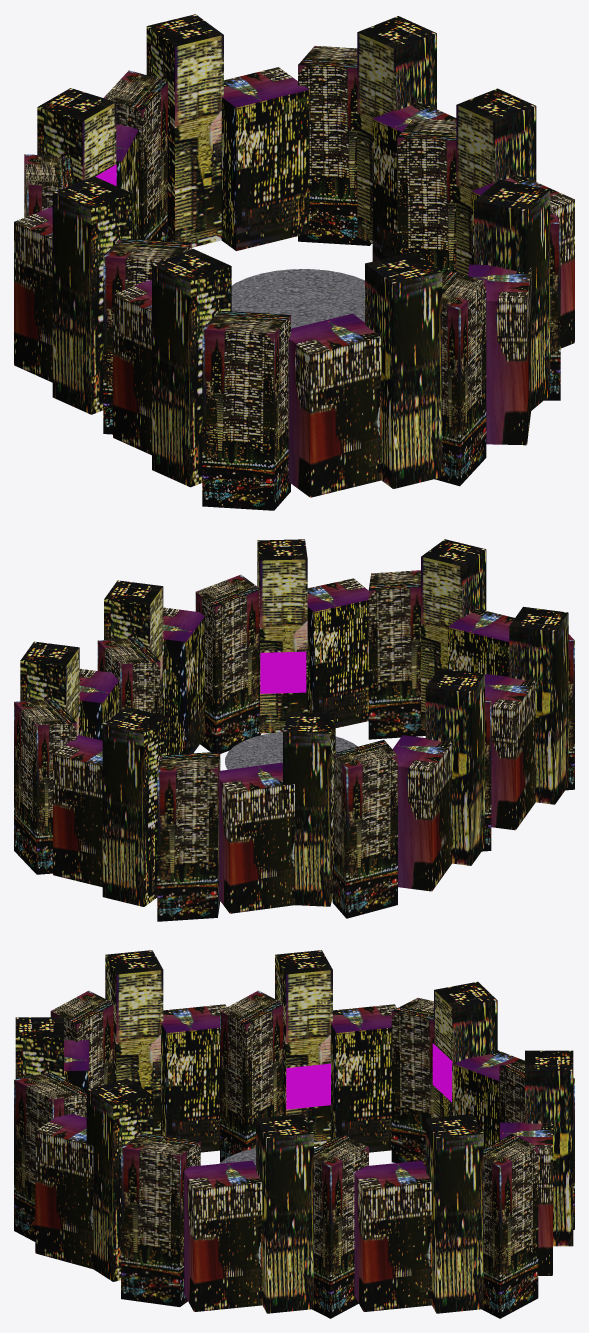
The model's file is blocktest.glb.
3 renders of one model, top to bottom at view 1: azimuth 30°, elevation 25°; view 2: azimuth 150°, elevation 25°; view 3: azimuth 270°, elevation 25°, orthographic. The views are drawn at different scales.
Parts seen in each view (by area): view 1: Cube.014, Cube.010, Cube.009, Cube.001, Cube, Cube.015, Cube.012, Cube.005, Cube.011, Cube.019, Cube.003, Cube.008 (+13 smaller); view 2: Cube, Cube.021, Cube.023, Cube.002, Cube.020, Cube.011, Cube.018, Cube.022, Cube.012, Cube.015, Cube.016, Cube.005 (+14 smaller); view 3: Cube.007, Cube.004, Cube.020, Cube.003, Cube.006, Cube.005, Cube.017, Cube.016, Cube.018, Cube.013, Cube.019, Cube.008 (+14 smaller).
Boxes of the visible parts, x1=… form: Cube.014: x1=202, y1=311, x2=290, y2=510; Cube.010: x1=288, y1=313, x2=381, y2=497; Cube.009: x1=365, y1=251, x2=442, y2=488; Cube.001: x1=221, y1=67, x2=309, y2=250; Cube: x1=146, y1=14, x2=223, y2=247; Cube.015: x1=52, y1=176, x2=132, y2=414; Cube.012: x1=152, y1=249, x2=231, y2=487; Cube.005: x1=298, y1=46, x2=371, y2=245; Cube.011: x1=434, y1=270, x2=486, y2=486; Cube.019: x1=474, y1=179, x2=550, y2=410; Cube.003: x1=357, y1=16, x2=436, y2=243; Cube.008: x1=397, y1=118, x2=456, y2=273; Cube: x1=102, y1=706, x2=167, y2=906; Cube.021: x1=219, y1=762, x2=294, y2=913; Cube.023: x1=332, y1=740, x2=397, y2=918; Cube.002: x1=157, y1=751, x2=220, y2=921; Cube.020: x1=195, y1=574, x2=260, y2=753; Cube.011: x1=368, y1=570, x2=425, y2=739; Cube.018: x1=307, y1=578, x2=368, y2=727; Cube.022: x1=283, y1=711, x2=335, y2=906; Cube.012: x1=509, y1=606, x2=568, y2=804; Cube.015: x1=425, y1=668, x2=484, y2=865; Cube.016: x1=392, y1=735, x2=451, y2=891; Cube.005: x1=14, y1=699, x2=76, y2=874; Cube.007: x1=184, y1=1160, x2=262, y2=1311; Cube.004: x1=354, y1=1160, x2=431, y2=1311; Cube.020: x1=121, y1=1133, x2=200, y2=1306; Cube.003: x1=425, y1=1114, x2=483, y2=1313; Cube.006: x1=256, y1=1114, x2=313, y2=1313; Cube.005: x1=482, y1=1134, x2=538, y2=1318; Cube.017: x1=220, y1=990, x2=283, y2=1162; Cube.016: x1=330, y1=1004, x2=396, y2=1152; Cube.018: x1=35, y1=1114, x2=93, y2=1268; Cube.013: x1=161, y1=1004, x2=226, y2=1152; Cube.019: x1=86, y1=1078, x2=153, y2=1281; Cube.008: x1=312, y1=1133, x2=368, y2=1318.
Bounding box in the file's own units: 92.17 × 42.45 × 116.
4 materials, 3 textured.
